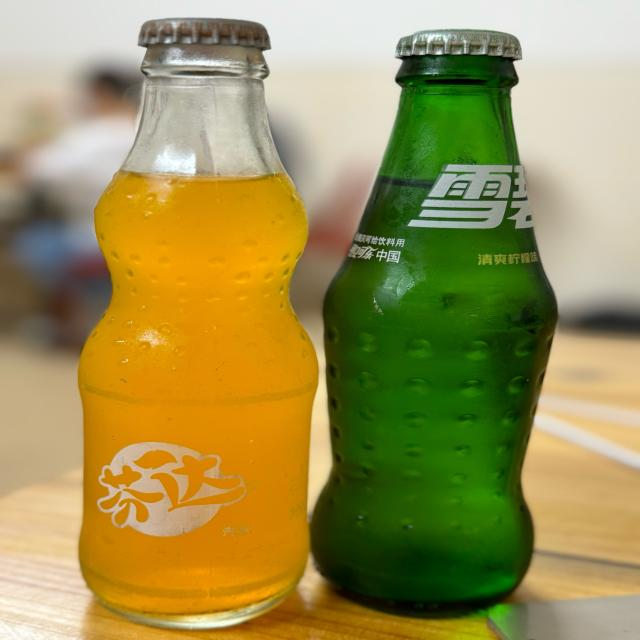bottle: (78, 17, 319, 632), (314, 27, 559, 616)
